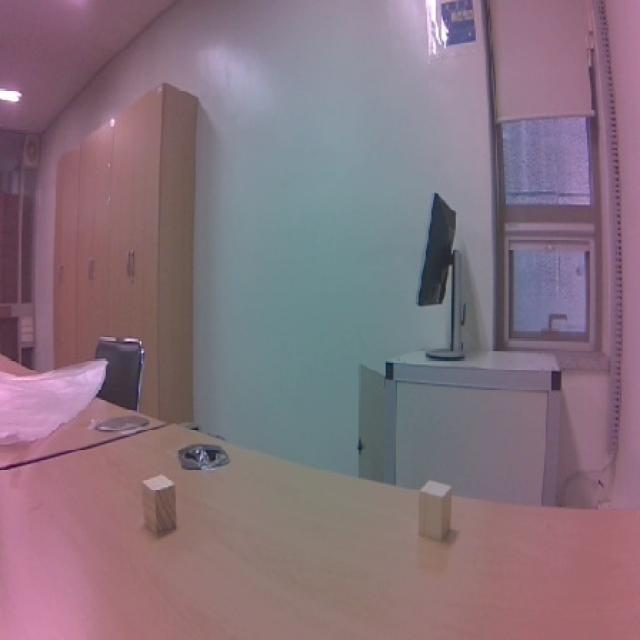obstacle: (130, 461, 188, 546), (410, 472, 468, 544)
